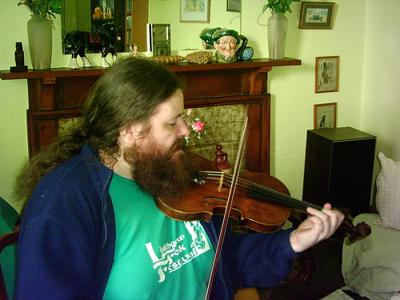person: (14, 58, 346, 300)
